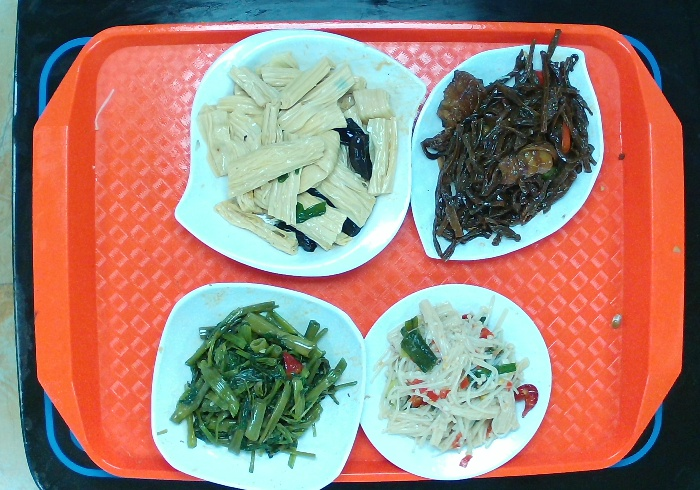RJxy-Da_Du_Pan: (405, 42, 611, 270)
RJxy-Shuang_Jiao_Pan: (168, 26, 433, 278)
RJxy-Si_Fang_Wan: (147, 279, 367, 490)
RJxy-Xiao_Yuan_Die: (355, 276, 561, 489)
